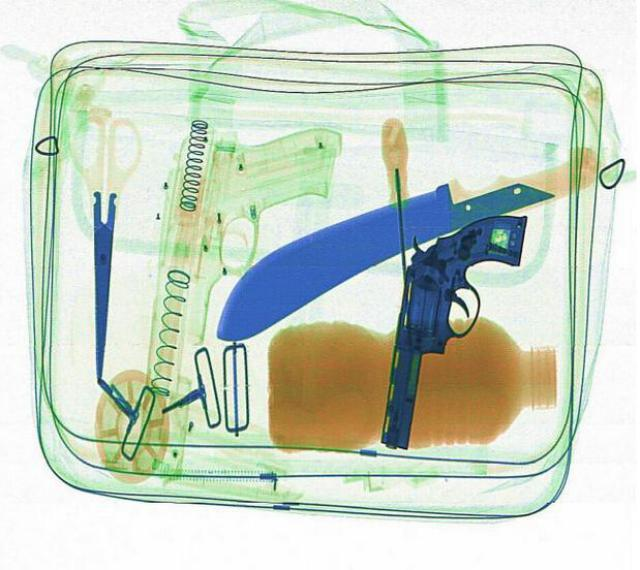Gun: (375, 210, 531, 449)
Knife: (212, 177, 558, 341)
